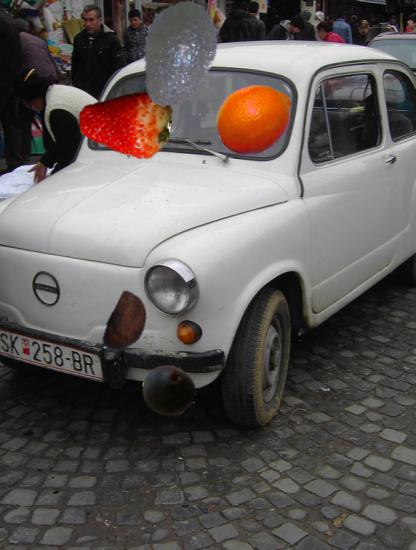Avocado: (123, 0, 232, 109)
Chestnut: (96, 293, 158, 355)
Plum: (142, 363, 197, 418)
Strawberry: (79, 75, 172, 168)
Tangelo: (215, 78, 296, 159)
